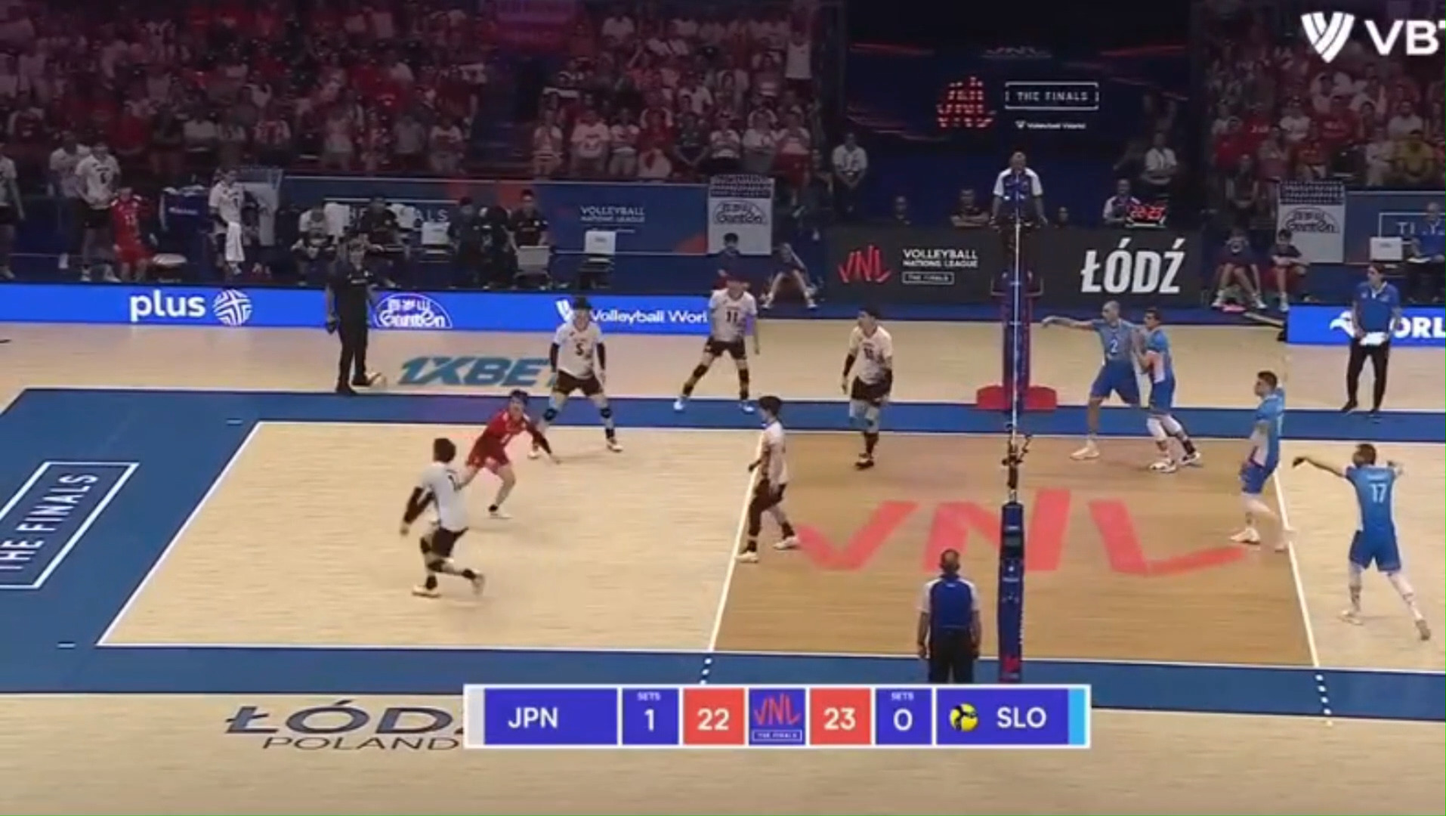ball: (369, 372, 388, 388)
player: (1292, 443, 1430, 639), (1041, 301, 1140, 459), (1140, 309, 1199, 471), (1231, 370, 1284, 545), (1276, 521, 1290, 550)
player 1: (400, 437, 484, 597), (539, 297, 621, 452), (462, 390, 555, 517), (674, 275, 760, 412), (736, 395, 797, 561), (841, 309, 894, 469)
referee: (1342, 265, 1402, 416), (916, 549, 981, 683), (991, 151, 1047, 303), (326, 233, 377, 395)
